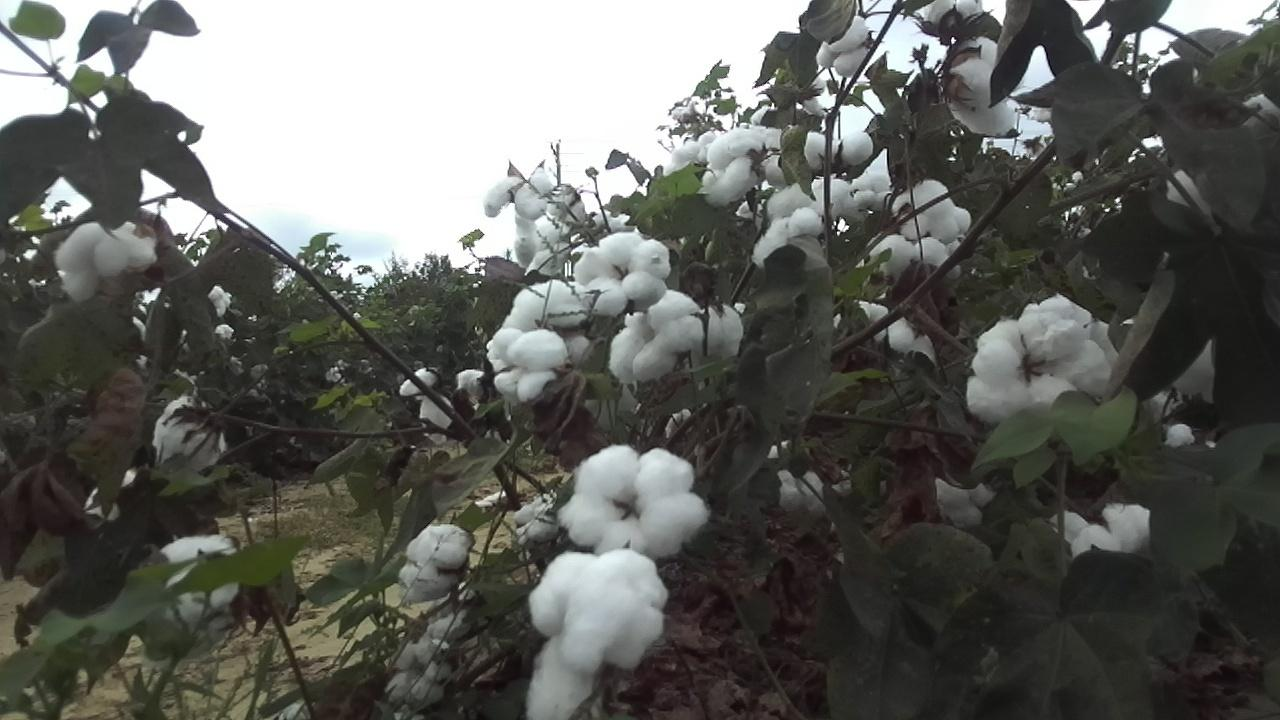cotton_ready: (526, 550, 669, 718), (967, 298, 1113, 422), (558, 446, 708, 554), (610, 290, 743, 383), (151, 534, 244, 635), (55, 219, 158, 304), (573, 230, 669, 318), (950, 38, 1016, 138), (398, 522, 471, 604), (488, 331, 570, 401), (703, 127, 769, 208), (155, 398, 223, 476), (501, 280, 589, 338), (483, 170, 555, 221)
